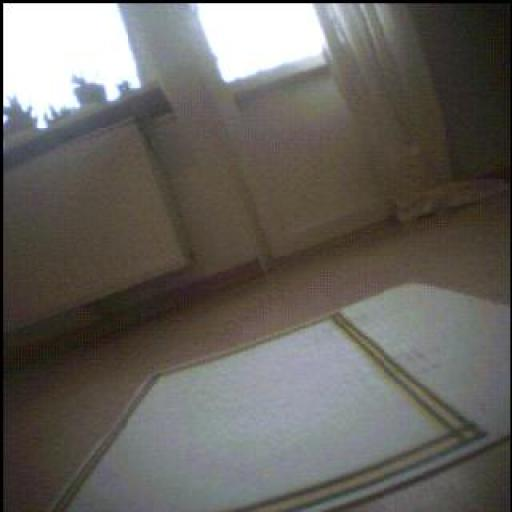Pad: (56, 286, 512, 512)
